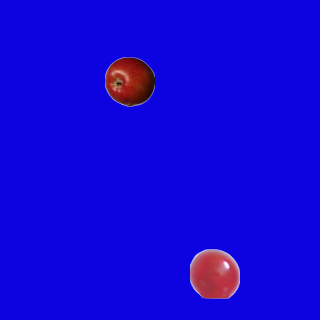Apple Braeburn: (104, 56, 154, 106)
Redcurrant: (189, 248, 239, 298)
